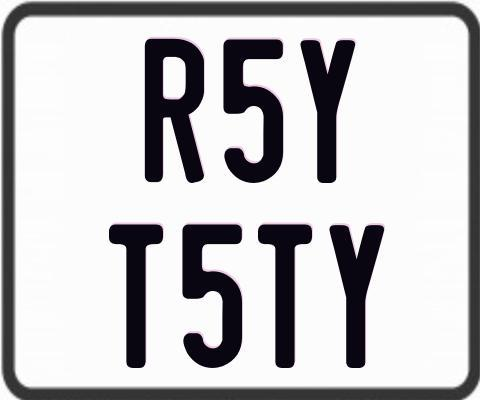5: (223, 38, 287, 186), (181, 223, 243, 372)
R: (143, 39, 204, 188)
T: (255, 223, 312, 373), (106, 222, 161, 366)
Y: (301, 39, 359, 187), (328, 223, 383, 371)
